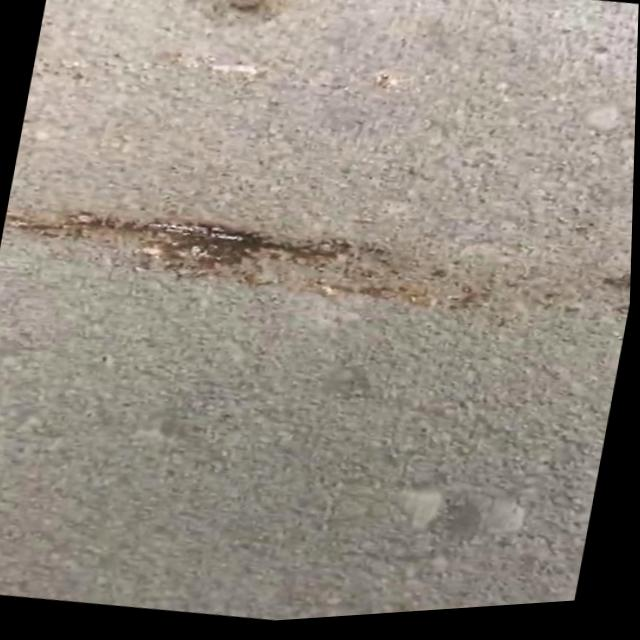Crack: (3, 183, 446, 331)
